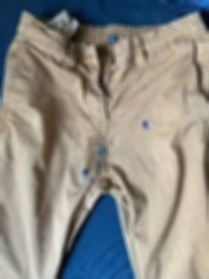ink: (97, 140, 107, 156), (142, 121, 148, 129), (83, 169, 88, 173)
